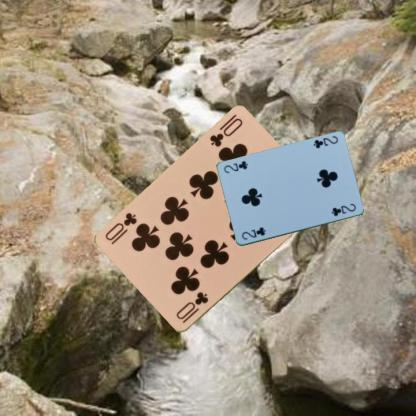10c: (206, 115, 244, 150), (173, 289, 209, 325)
2c: (310, 134, 340, 150), (239, 225, 266, 241)
